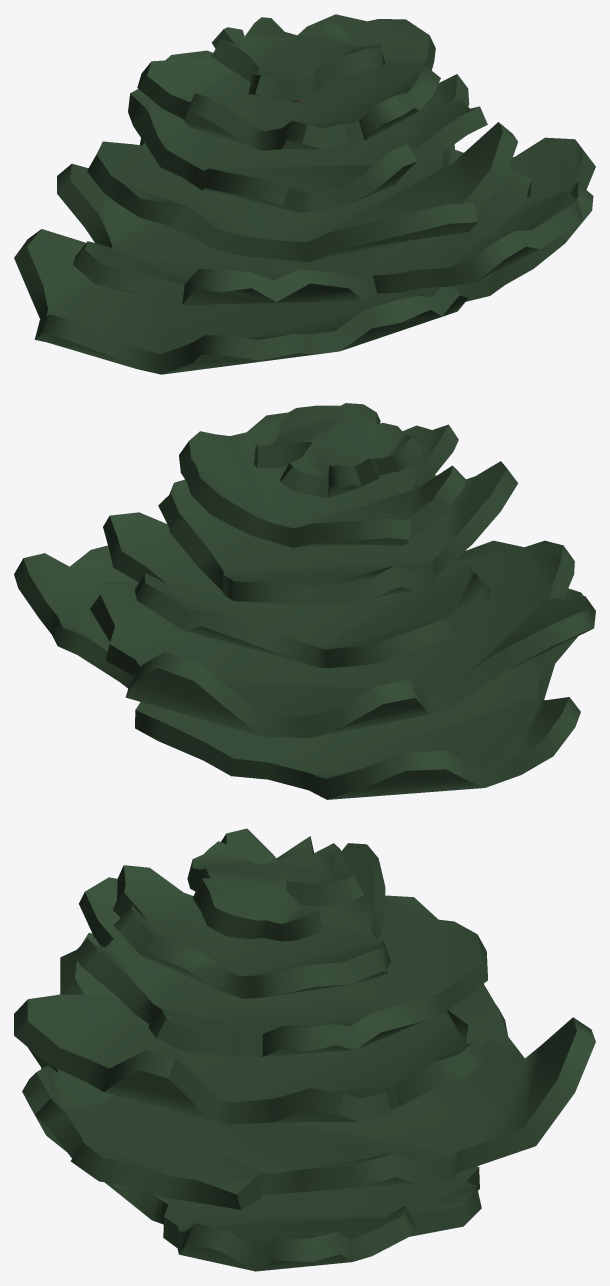
File: bush.fbx
The picture shows the model from 3 angles, top to bottom: view 1: azimuth 30°, elevation 25°; view 2: azimuth 150°, elevation 25°; view 3: azimuth 270°, elevation 25°; orthographic projection. The views are drawn at different scales.
Visible parts, largest first — view 1: bush_leaves; view 2: bush_leaves; view 3: bush_leaves.
Part boxes in pixels (bbox=[...]): bush_leaves: bbox=[14, 14, 595, 374]; bush_leaves: bbox=[14, 403, 595, 799]; bush_leaves: bbox=[14, 828, 595, 1271].
Bounding box in the file's own units: 169 × 84.57 × 136.
